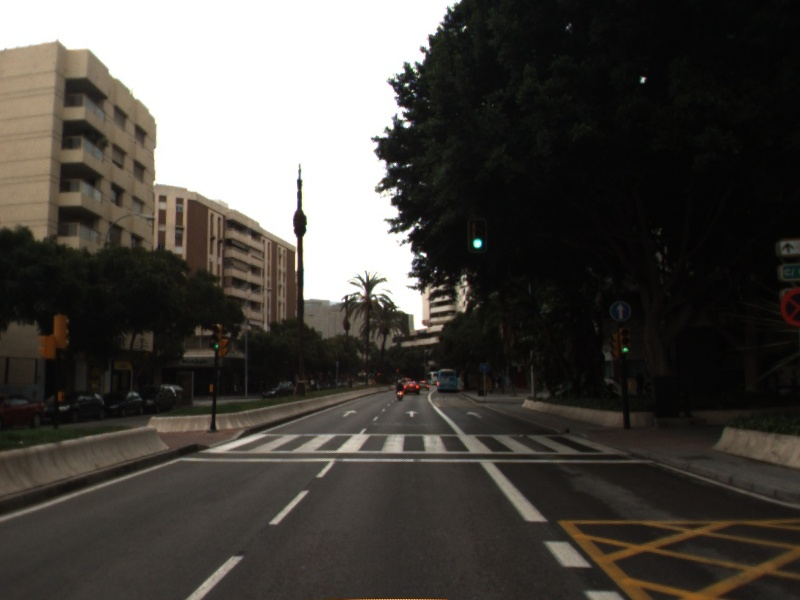STRAIGHT: (464, 409, 484, 420), (340, 408, 359, 419), (402, 409, 421, 419)
